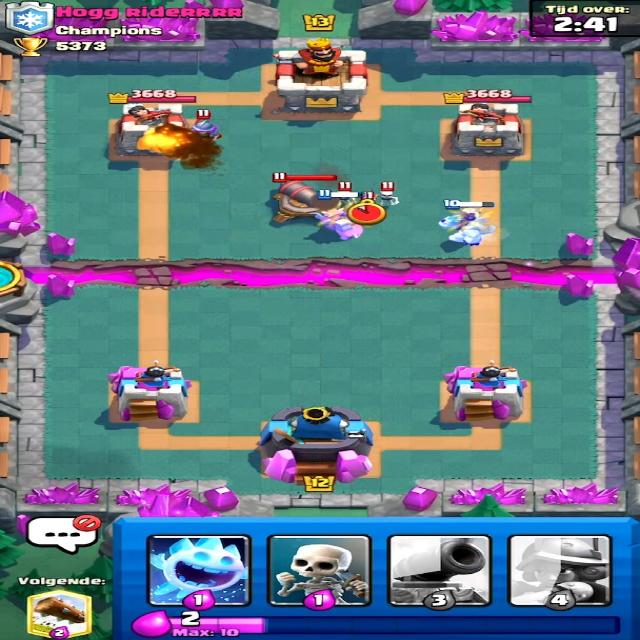Cannon_Card: (381, 533, 490, 608)
Enemy_Cannon_Troop: (253, 182, 324, 220)
Ice_Golem_Troop: (435, 205, 506, 250)
Ice_Spirit_Card: (146, 533, 255, 608)
Musketeer_Card: (507, 535, 605, 606)
Skeleton_Card: (259, 531, 384, 612)
